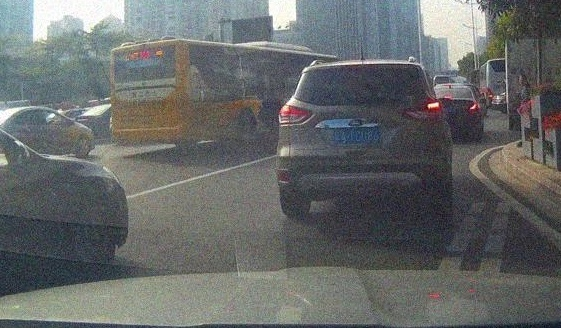L_light: (279, 105, 313, 124)
R_light: (405, 100, 443, 120)
T_light: (351, 64, 371, 68)
day-right: (276, 59, 453, 217)
